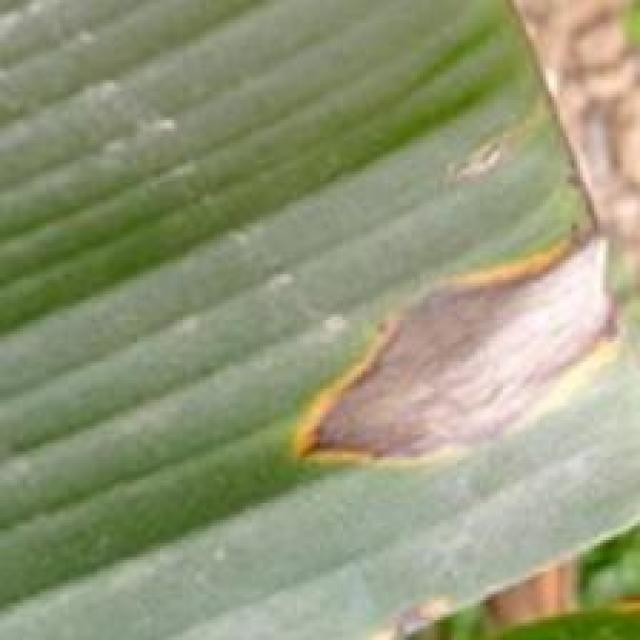Bacterial_spot: (277, 228, 640, 499), (424, 99, 558, 189), (366, 574, 454, 640)
